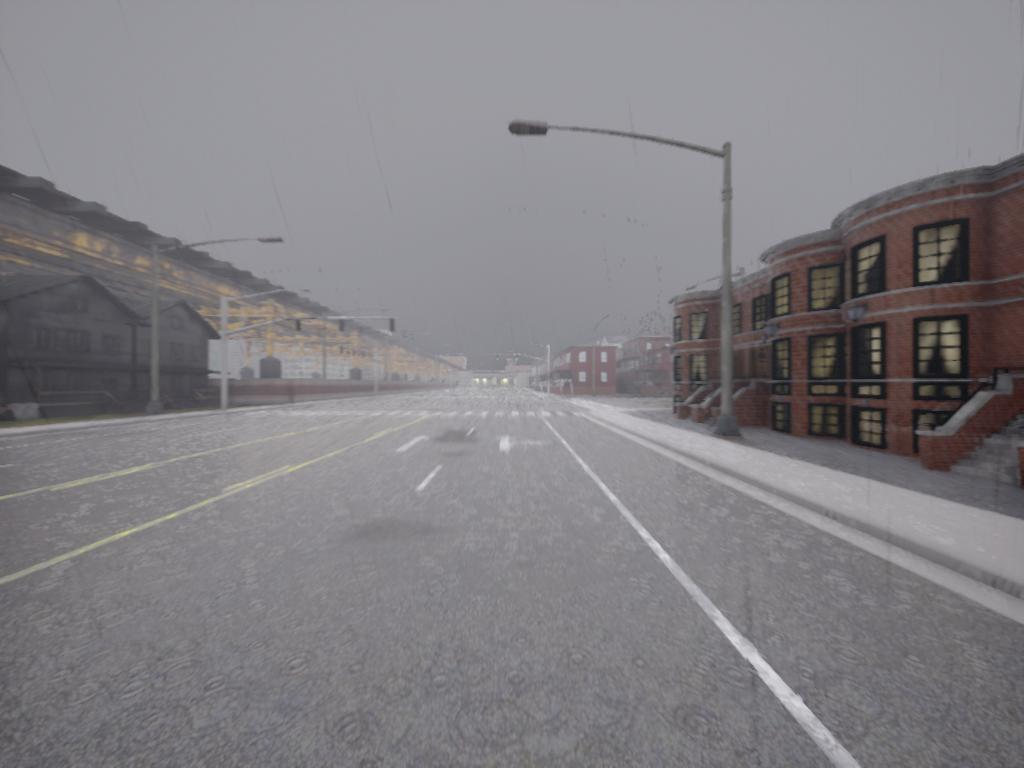traffic_light: (339, 319, 346, 334), (390, 319, 395, 334), (296, 320, 301, 334), (516, 355, 520, 364), (497, 354, 500, 364)
